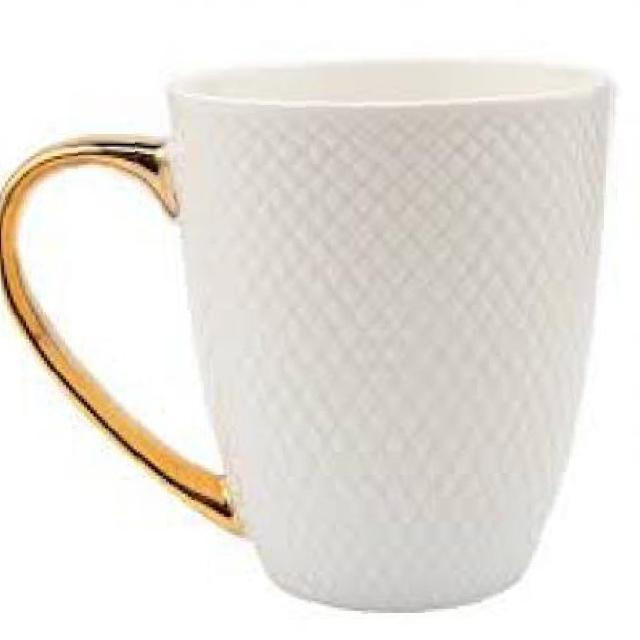cup: (0, 53, 622, 628)
